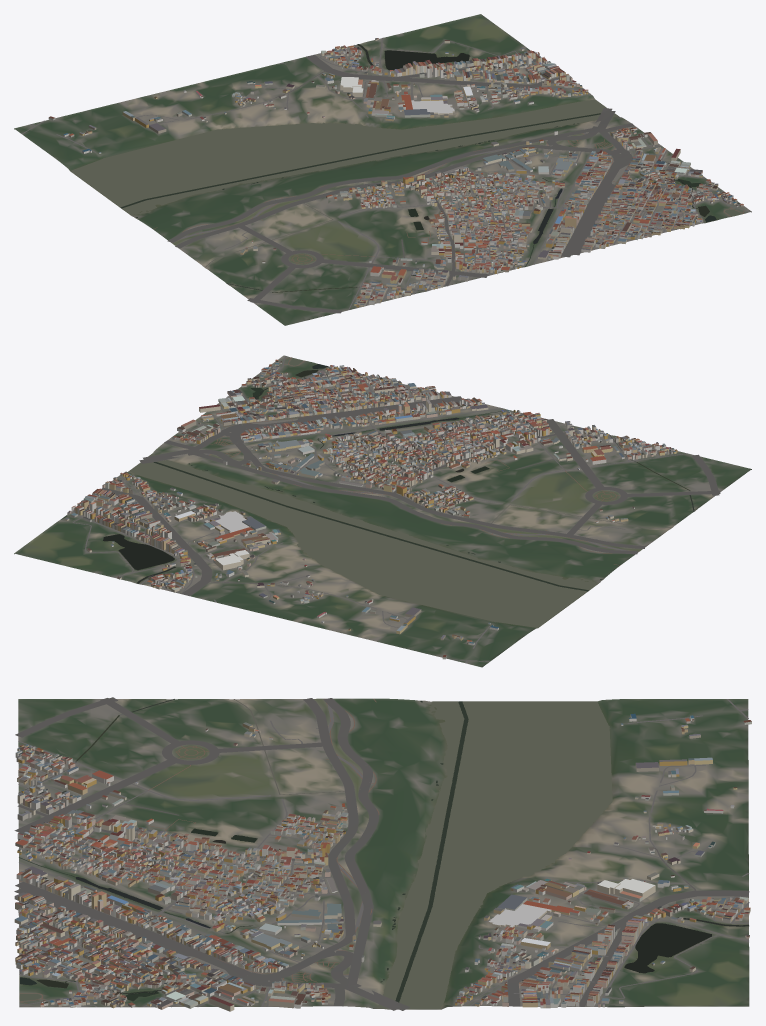
3 renders of one model, top to bottom at view 1: azimuth 30°, elevation 25°; view 2: azimuth 150°, elevation 25°; view 3: azimuth 270°, elevation 25°, orthographic. The views are drawn at different scales.
Parts seen in each view (by area): view 1: ground, buildings, water, roads; view 2: ground, buildings, water, roads; view 3: ground, buildings, water, roads.
Part boxes in pixels (bbox=[...]): ground: bbox=[14, 14, 751, 325]; buildings: bbox=[48, 38, 743, 307]; water: bbox=[71, 44, 742, 292]; roads: bbox=[22, 37, 749, 313]; ground: bbox=[14, 355, 751, 667]; buildings: bbox=[65, 359, 677, 659]; water: bbox=[60, 358, 694, 627]; roads: bbox=[71, 355, 720, 663]; ground: bbox=[18, 698, 749, 1009]; buildings: bbox=[14, 713, 751, 1011]; water: bbox=[18, 699, 748, 1008]; roads: bbox=[14, 697, 749, 1010].
Bounding box in the file's own units: 1428 × 36.3 × 1417.
